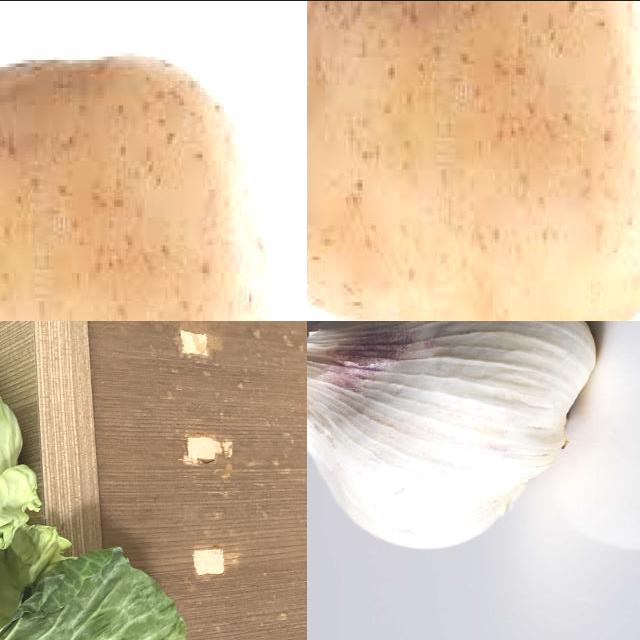cabbage: (1, 335, 190, 640)
garlic: (308, 321, 599, 550)
potato: (308, 1, 640, 321), (1, 55, 278, 321)
